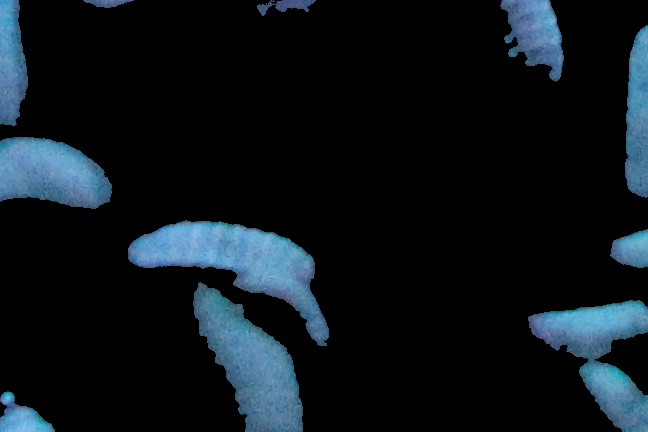larvae: (195, 281, 307, 432), (126, 220, 325, 275), (1, 137, 115, 218), (471, 1, 568, 90), (236, 271, 330, 353), (528, 298, 648, 360), (613, 18, 648, 201), (572, 361, 648, 432), (1, 1, 35, 134)
